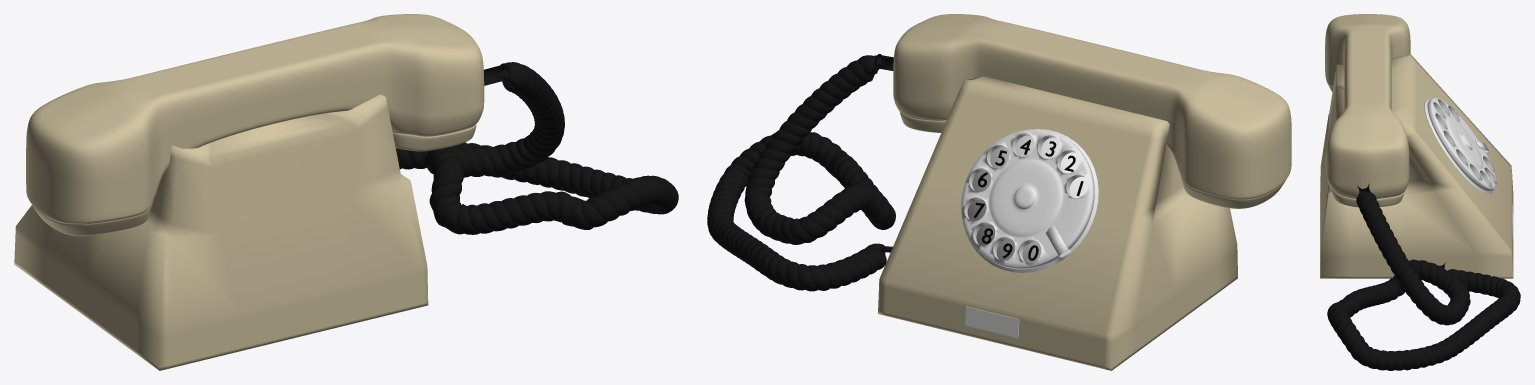
The model's file is Phone.fbx.
The picture shows the model from 3 angles, left to right: view 1: azimuth 30°, elevation 25°; view 2: azimuth 150°, elevation 25°; view 3: azimuth 270°, elevation 25°; orthographic projection. The views are drawn at different scales.
Visible parts, largest first — view 1: Telefono; view 2: Telefono; view 3: Telefono.
Part boxes in pixels (box(x1,y1,x2,y2)): Telefono: box(14, 14, 678, 370); Telefono: box(707, 14, 1291, 370); Telefono: box(1320, 14, 1520, 370).
Bounding box in the file's own units: 609 × 241 × 251.
